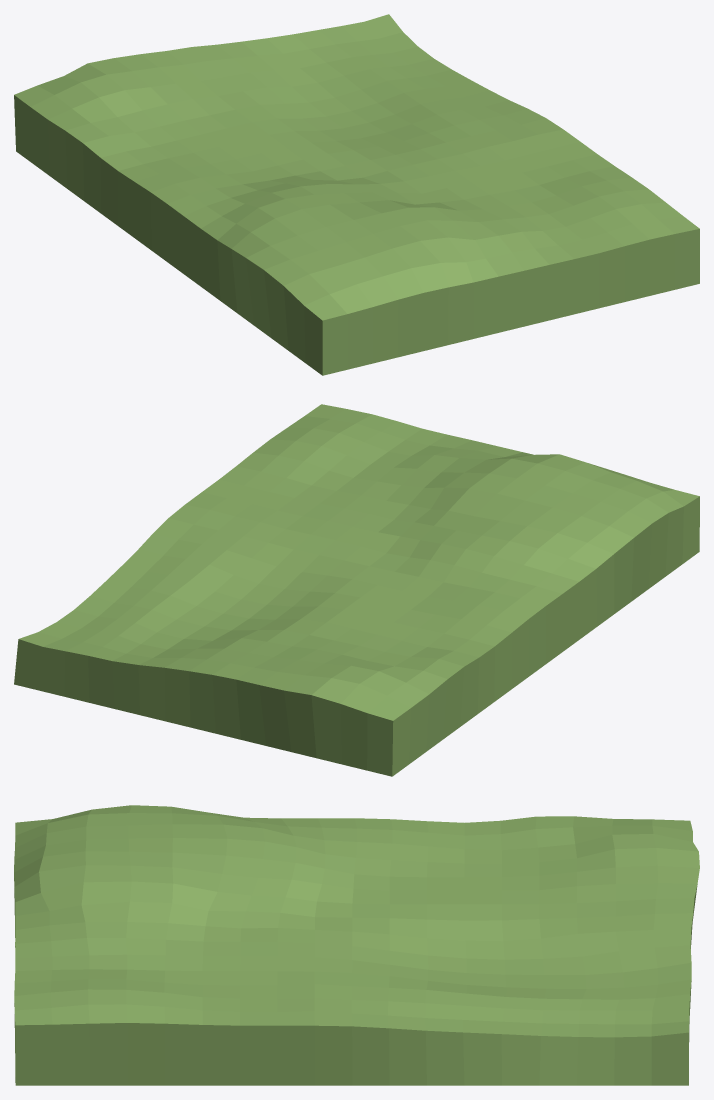
Rendered from ground 1.fbx.
The picture shows the model from 3 angles, top to bottom: view 1: azimuth 30°, elevation 25°; view 2: azimuth 150°, elevation 25°; view 3: azimuth 270°, elevation 25°; orthographic projection. The views are drawn at different scales.
Visible parts, largest first — view 1: Cube; view 2: Cube; view 3: Cube.
Part boxes in pixels (box(x1,y1,x2,y2)): Cube: box(14, 14, 699, 375); Cube: box(14, 404, 699, 776); Cube: box(14, 805, 699, 1085).
Bounding box in the file's own units: 3685 × 734 × 5202.
